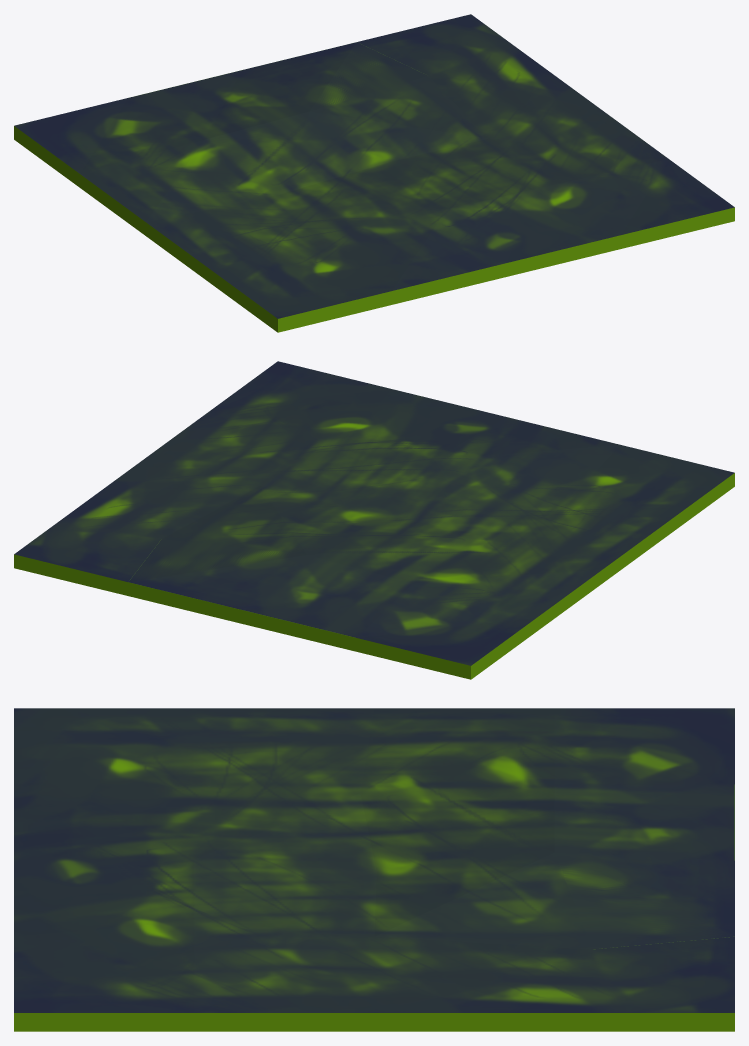
File: FloorTile.fbx
The picture shows the model from 3 angles, top to bottom: view 1: azimuth 30°, elevation 25°; view 2: azimuth 150°, elevation 25°; view 3: azimuth 270°, elevation 25°; orthographic projection. The views are drawn at different scales.
Visible parts, largest first — view 1: Cube; view 2: Cube; view 3: Cube.
Boxes of the visible parts, <box> form: Cube: <box>14,14,734,332</box>; Cube: <box>14,361,734,679</box>; Cube: <box>14,708,734,1031</box>.
Bounding box in the file's own units: 598 × 25.48 × 598.
1 material, 1 textured.
